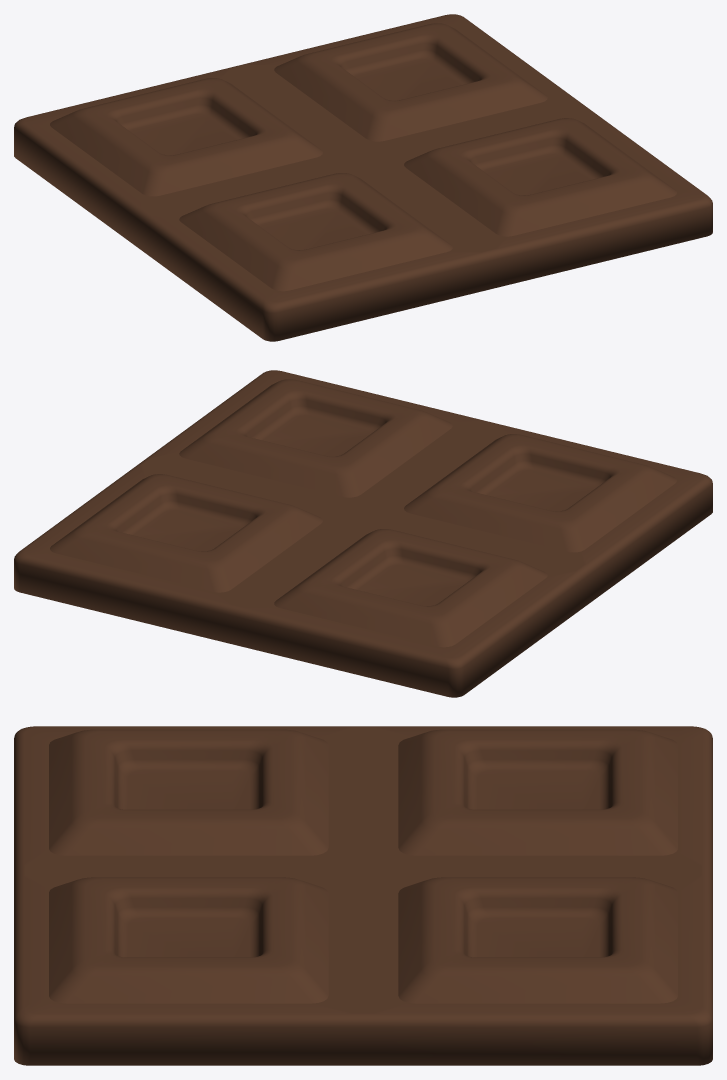
The model's file is Chocolate4.fbx.
3 renders of one model, top to bottom at view 1: azimuth 30°, elevation 25°; view 2: azimuth 150°, elevation 25°; view 3: azimuth 270°, elevation 25°, orthographic. The views are drawn at different scales.
Visible parts, largest first — view 1: chocolate3; view 2: chocolate3; view 3: chocolate3.
Boxes of the visible parts, left/top/right/bottom form: chocolate3: left=14, top=14, right=712, bottom=341; chocolate3: left=14, top=370, right=712, bottom=697; chocolate3: left=14, top=726, right=712, bottom=1065.
Size of the model in its own units: 4 by 0.4361 by 4.
